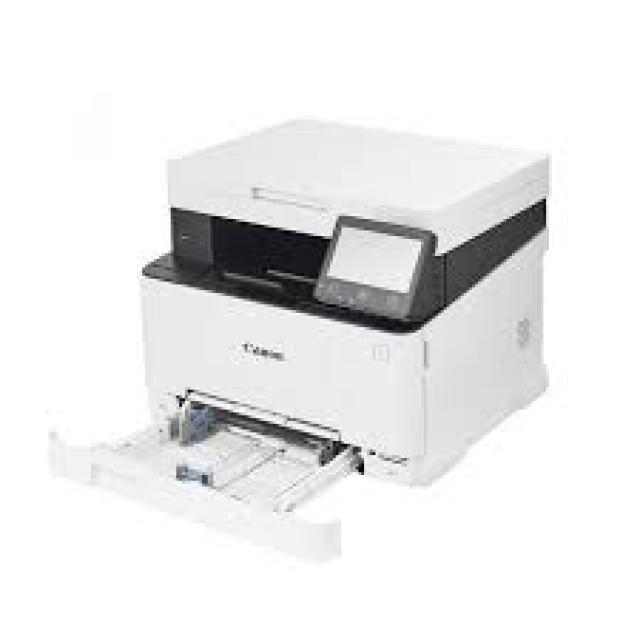printer: (45, 111, 552, 560)
